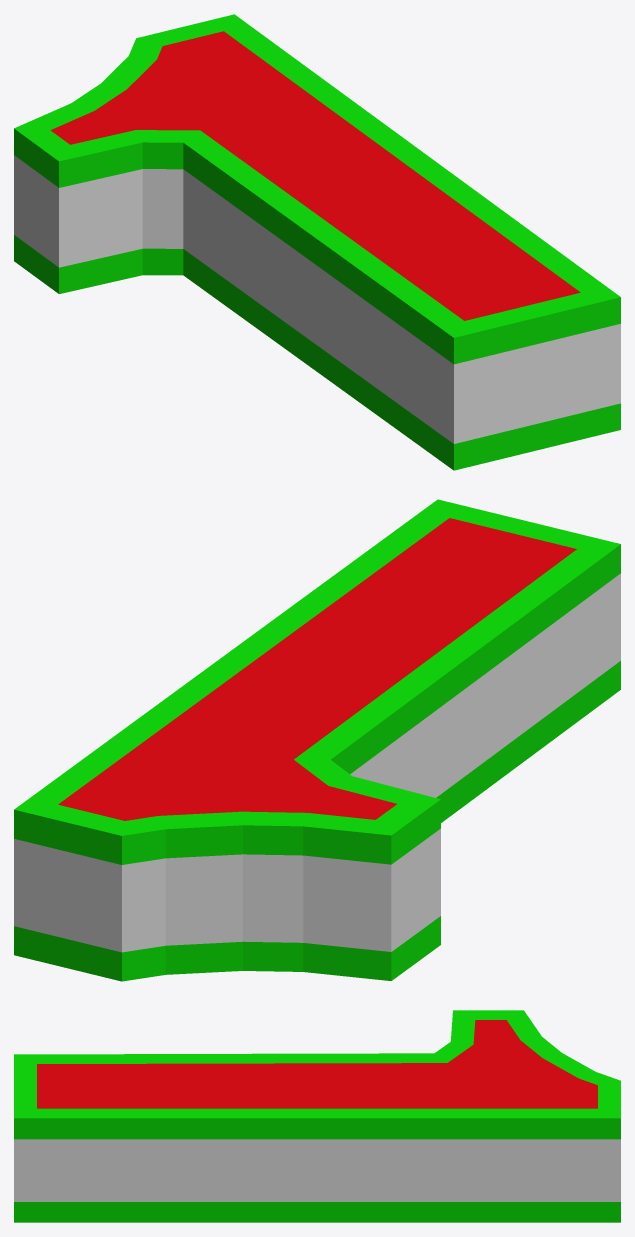
3 views of the same model, one above another, from view 1: azimuth 30°, elevation 25°; view 2: azimuth 150°, elevation 25°; view 3: azimuth 270°, elevation 25° (orthographic). The views are drawn at different scales.
Visible parts, largest first — view 1: 1; view 2: 1; view 3: 1.
Part boxes in pixels (left/top/right/bottom): 1: left=14, top=14, right=620, bottom=470; 1: left=14, top=499, right=620, bottom=981; 1: left=14, top=1010, right=620, bottom=1222.
Bounding box in the file's own units: 0.2225 × 0.1 × 0.5275.
